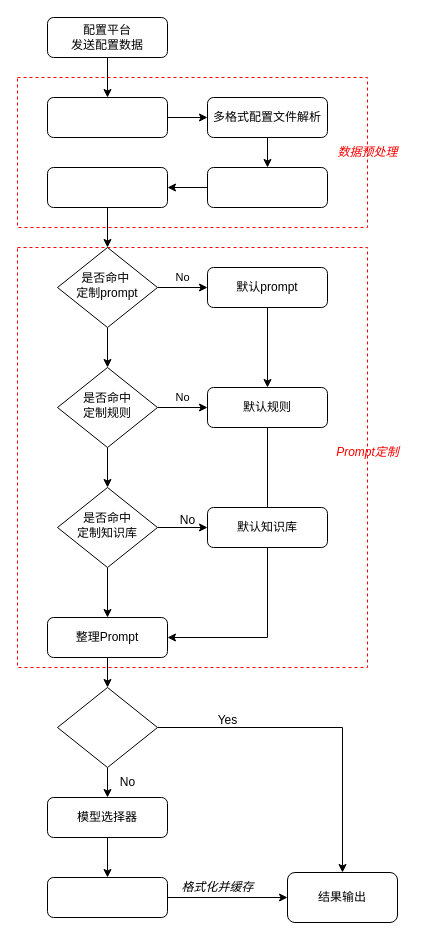
This 430x940 diagram has some shape labels left out. Here are the shapes that lost their labels. From the top down, the centre of each, then its label:
At [107,117]: "数据清洗".
At [107,187]: "匹配模式标注".
At [267,187]: "非关键数据分析".
At [107,727]: "是否命中 缓存".
At [107,897]: "AI 分析".
